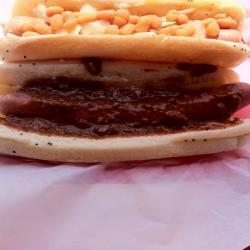hotdog: (1, 59, 250, 163), (1, 1, 250, 69)
